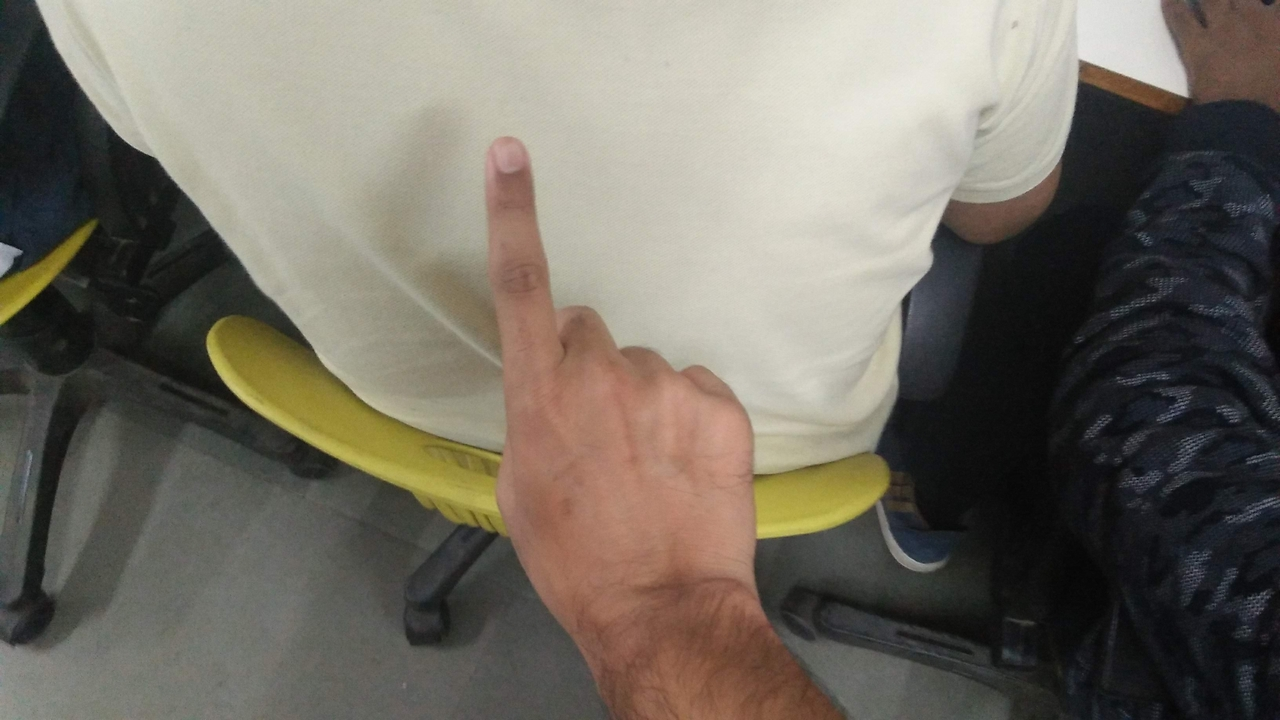fingertip: (476, 132, 536, 184)
